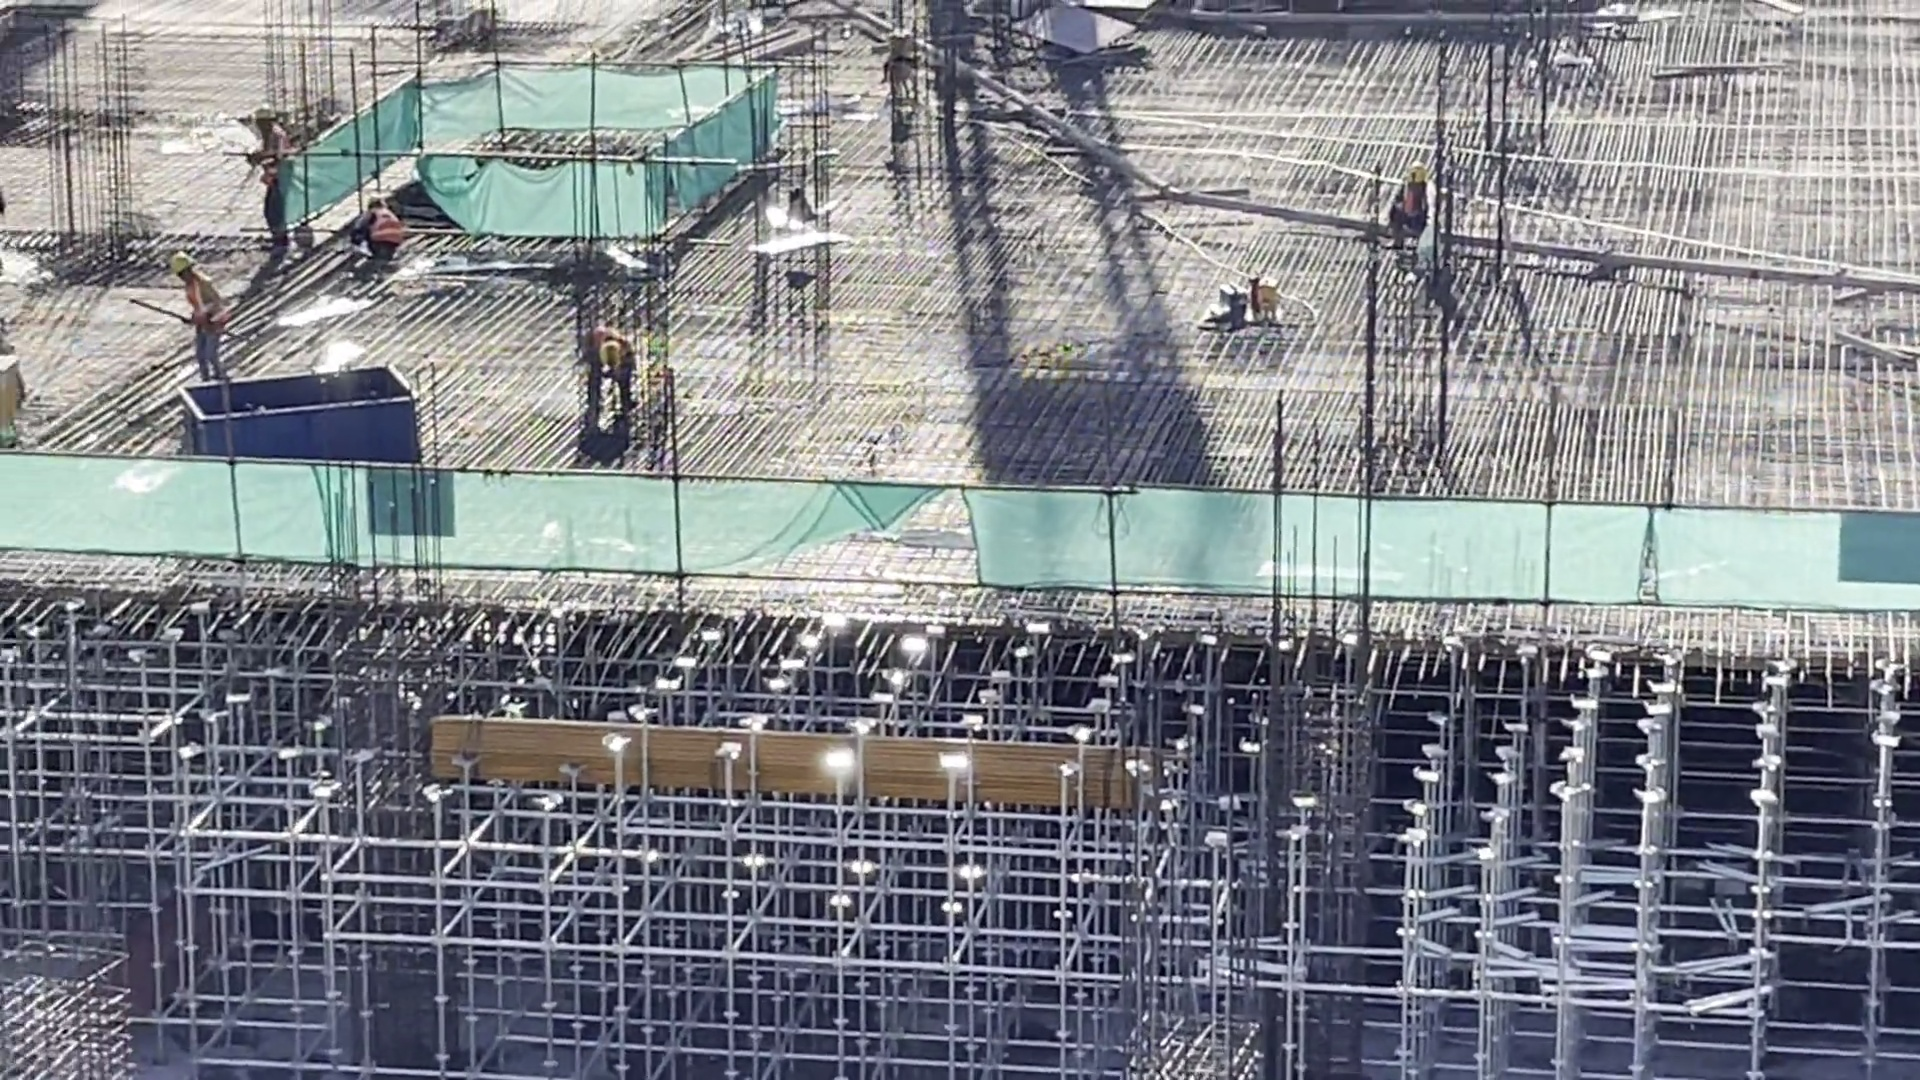cutter: (1189, 268, 1301, 356)
helmet: (598, 335, 628, 369), (244, 100, 286, 123), (169, 249, 207, 271), (1400, 165, 1429, 190), (367, 197, 388, 212)
hopper: (182, 364, 433, 497)
person: (184, 228, 249, 390), (244, 98, 310, 252), (581, 328, 645, 419), (351, 186, 408, 269), (1388, 164, 1440, 235)
vest: (181, 277, 232, 327), (256, 131, 295, 177), (371, 218, 404, 259), (1406, 196, 1433, 226)
